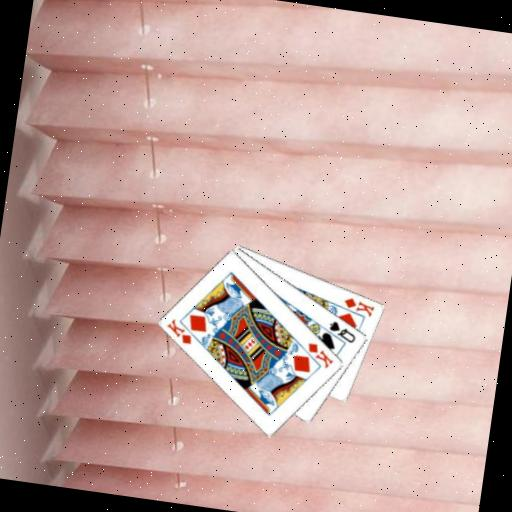KD: (303, 339, 338, 371), (162, 315, 197, 346), (340, 294, 378, 319)
QS: (325, 317, 360, 345)
